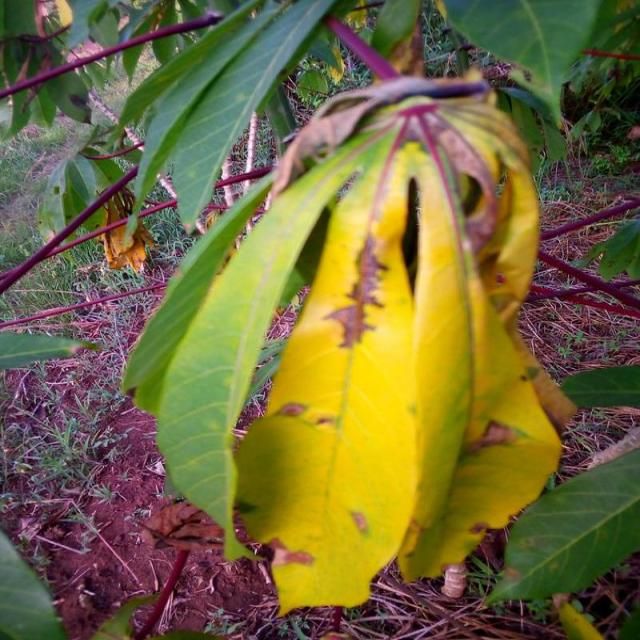cassava leaf: (122, 74, 568, 616)
